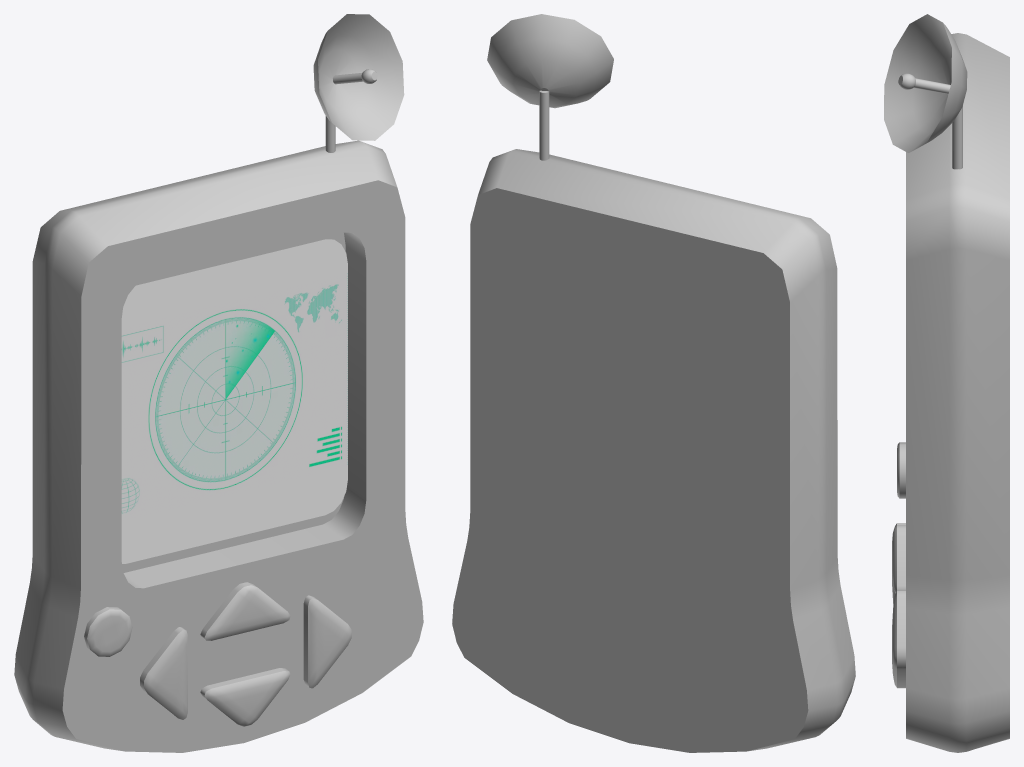
The model's file is GpsModule_Final.fbx.
3 views of the same model, side by side, from view 1: azimuth 30°, elevation 25°; view 2: azimuth 150°, elevation 25°; view 3: azimuth 270°, elevation 25° (orthographic). The views are drawn at different scales.
Parts seen in each view (by area): view 1: GadgetBase_lo, ImagePlane, Sateliet_lo, Arrow_lo, Arrow_lo.001, Button_lo; view 2: GadgetBase_lo, Sateliet_lo, SatelietSupport_lo; view 3: GadgetBase_lo, Sateliet_lo, Arrow_lo, Arrow_lo.001, SatelietSupport_lo, Button_lo.
Boxes of the visible parts, <box> form: GadgetBase_lo: <box>14,140,423,752</box>; ImagePlane: <box>121,239,347,563</box>; Sateliet_lo: <box>313,14,404,140</box>; Arrow_lo: <box>140,595,351,719</box>; Arrow_lo.001: <box>200,582,290,726</box>; Button_lo: <box>84,607,132,656</box>; GadgetBase_lo: <box>452,149,855,752</box>; Sateliet_lo: <box>487,14,613,108</box>; SatelietSupport_lo: <box>539,90,549,160</box>; GadgetBase_lo: <box>906,33,1009,752</box>; Sateliet_lo: <box>884,14,967,152</box>; Arrow_lo: <box>892,523,905,688</box>; Arrow_lo.001: <box>892,524,905,593</box>; SatelietSupport_lo: <box>952,105,962,169</box>; Button_lo: <box>897,442,905,498</box>.
Size of the model in its own units: 30.47 by 53.34 by 8.09.
